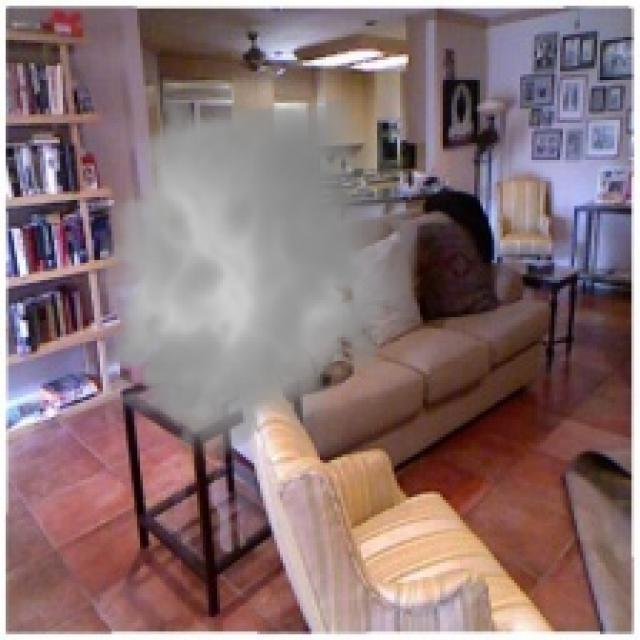Smoke: (86, 77, 428, 472)
